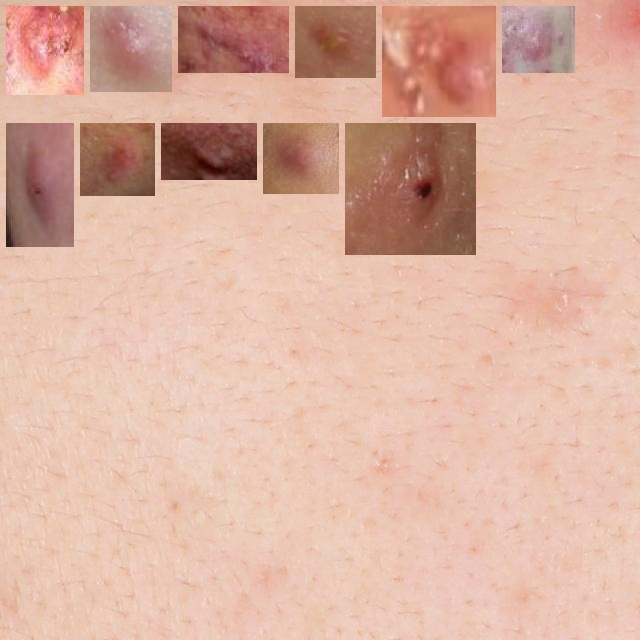nodule: (353, 131, 468, 247), (390, 14, 488, 116), (14, 131, 66, 239), (186, 14, 281, 65), (98, 14, 164, 84), (14, 14, 76, 87), (303, 14, 368, 70), (88, 131, 147, 188), (271, 131, 331, 186), (169, 131, 249, 172), (510, 14, 567, 65)
